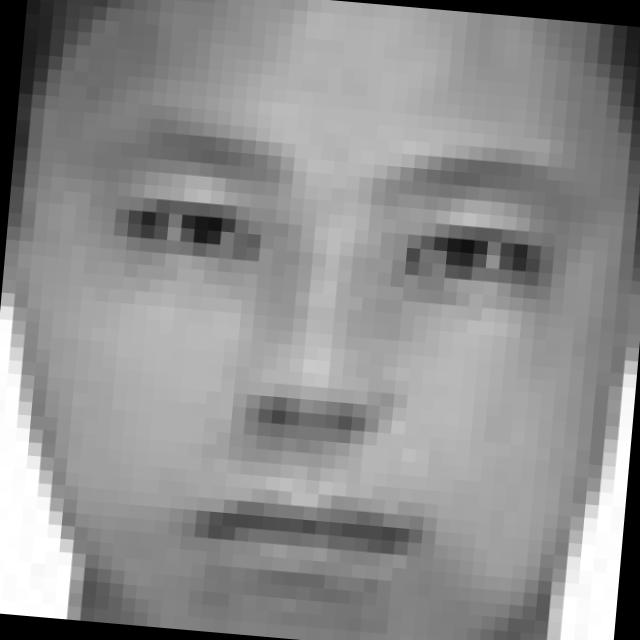neutral: (52, 116, 594, 614)
